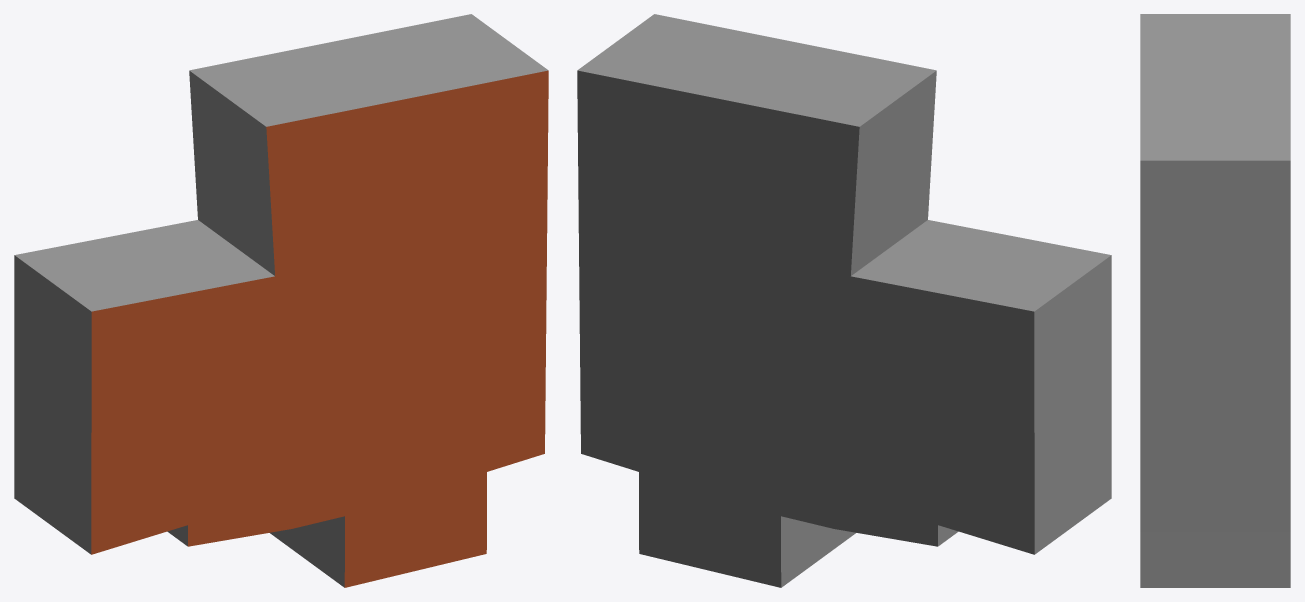
File: construction_3432_assumed_A_Casa_h6m.obj
3 views of the same model, side by side, from view 1: azimuth 30°, elevation 25°; view 2: azimuth 150°, elevation 25°; view 3: azimuth 270°, elevation 25° (orthographic). The views are drawn at different scales.
Parts seen in each view (by area): view 1: construction_3432_assumed_A_Casa; view 2: construction_3432_assumed_A_Casa; view 3: construction_3432_assumed_A_Casa.
Part boxes in pixels (x1,y1,x2,y2): construction_3432_assumed_A_Casa: (14, 14, 548, 587); construction_3432_assumed_A_Casa: (577, 14, 1111, 587); construction_3432_assumed_A_Casa: (1140, 14, 1290, 587).
Bounding box in the file's own units: 20.53 × 20.62 × 6.
